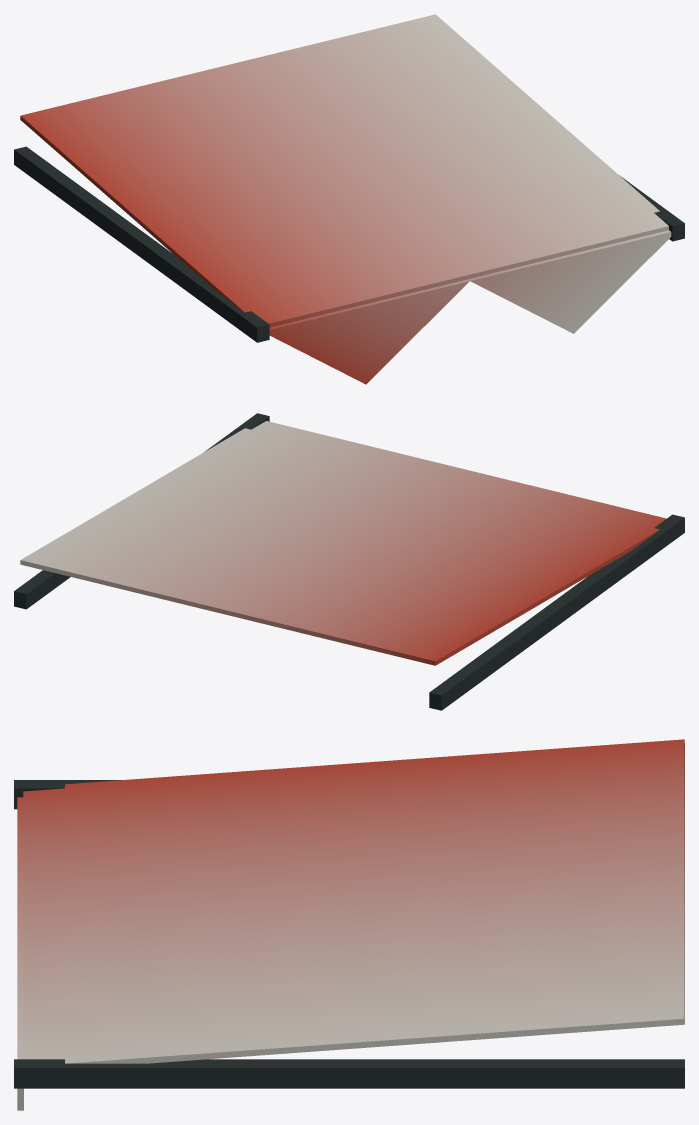
The model's file is mai_hien_do.glb.
The picture shows the model from 3 angles, top to bottom: view 1: azimuth 30°, elevation 25°; view 2: azimuth 150°, elevation 25°; view 3: azimuth 270°, elevation 25°; orthographic projection. The views are drawn at different scales.
Parts seen in each view (by area): view 1: mai_hien_do; view 2: mai_hien_do; view 3: mai_hien_do.
Boxes of the visible parts, bbox=[...] form: mai_hien_do: bbox=[14, 14, 684, 384]; mai_hien_do: bbox=[14, 413, 684, 710]; mai_hien_do: bbox=[14, 739, 684, 1110].
Size of the model in its own units: 1.03 by 0.27 by 1.01.
